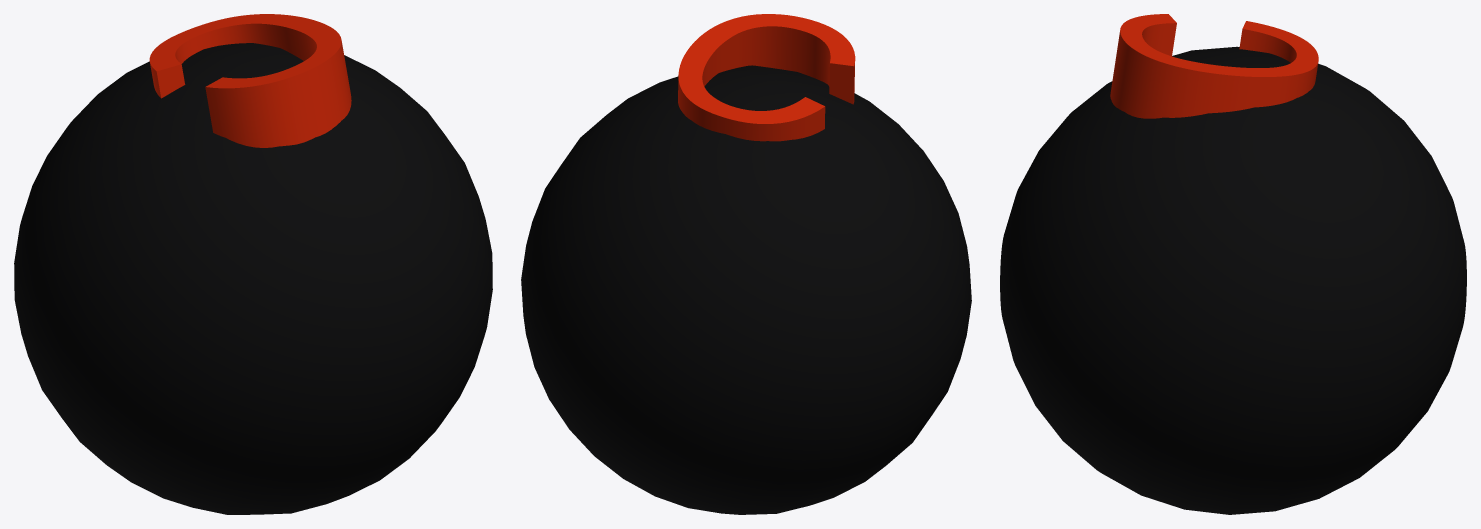
The picture shows the model from 3 angles, left to right: view 1: azimuth 30°, elevation 25°; view 2: azimuth 150°, elevation 25°; view 3: azimuth 270°, elevation 25°; orthographic projection. The views are drawn at different scales.
Parts seen in each view (by area): view 1: C; view 2: C; view 3: C.
Boxes of the visible parts, <box> form: C: <box>14,14,492,514</box>; C: <box>521,14,971,514</box>; C: <box>1000,14,1466,514</box>.
Size of the model in its own units: 38.48 by 41.57 by 38.62.
